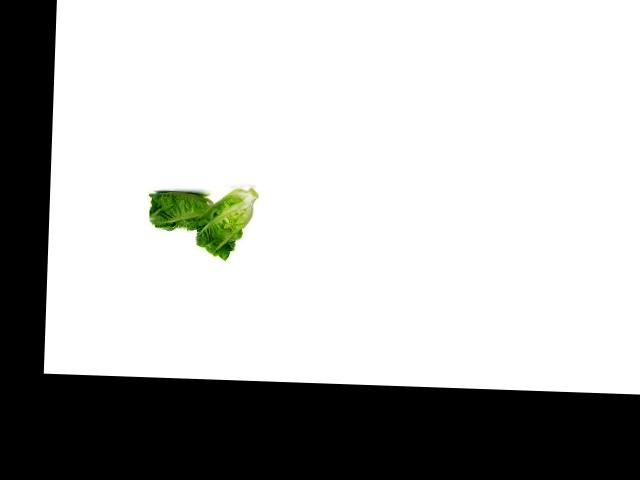lettuce: (187, 180, 260, 258)
